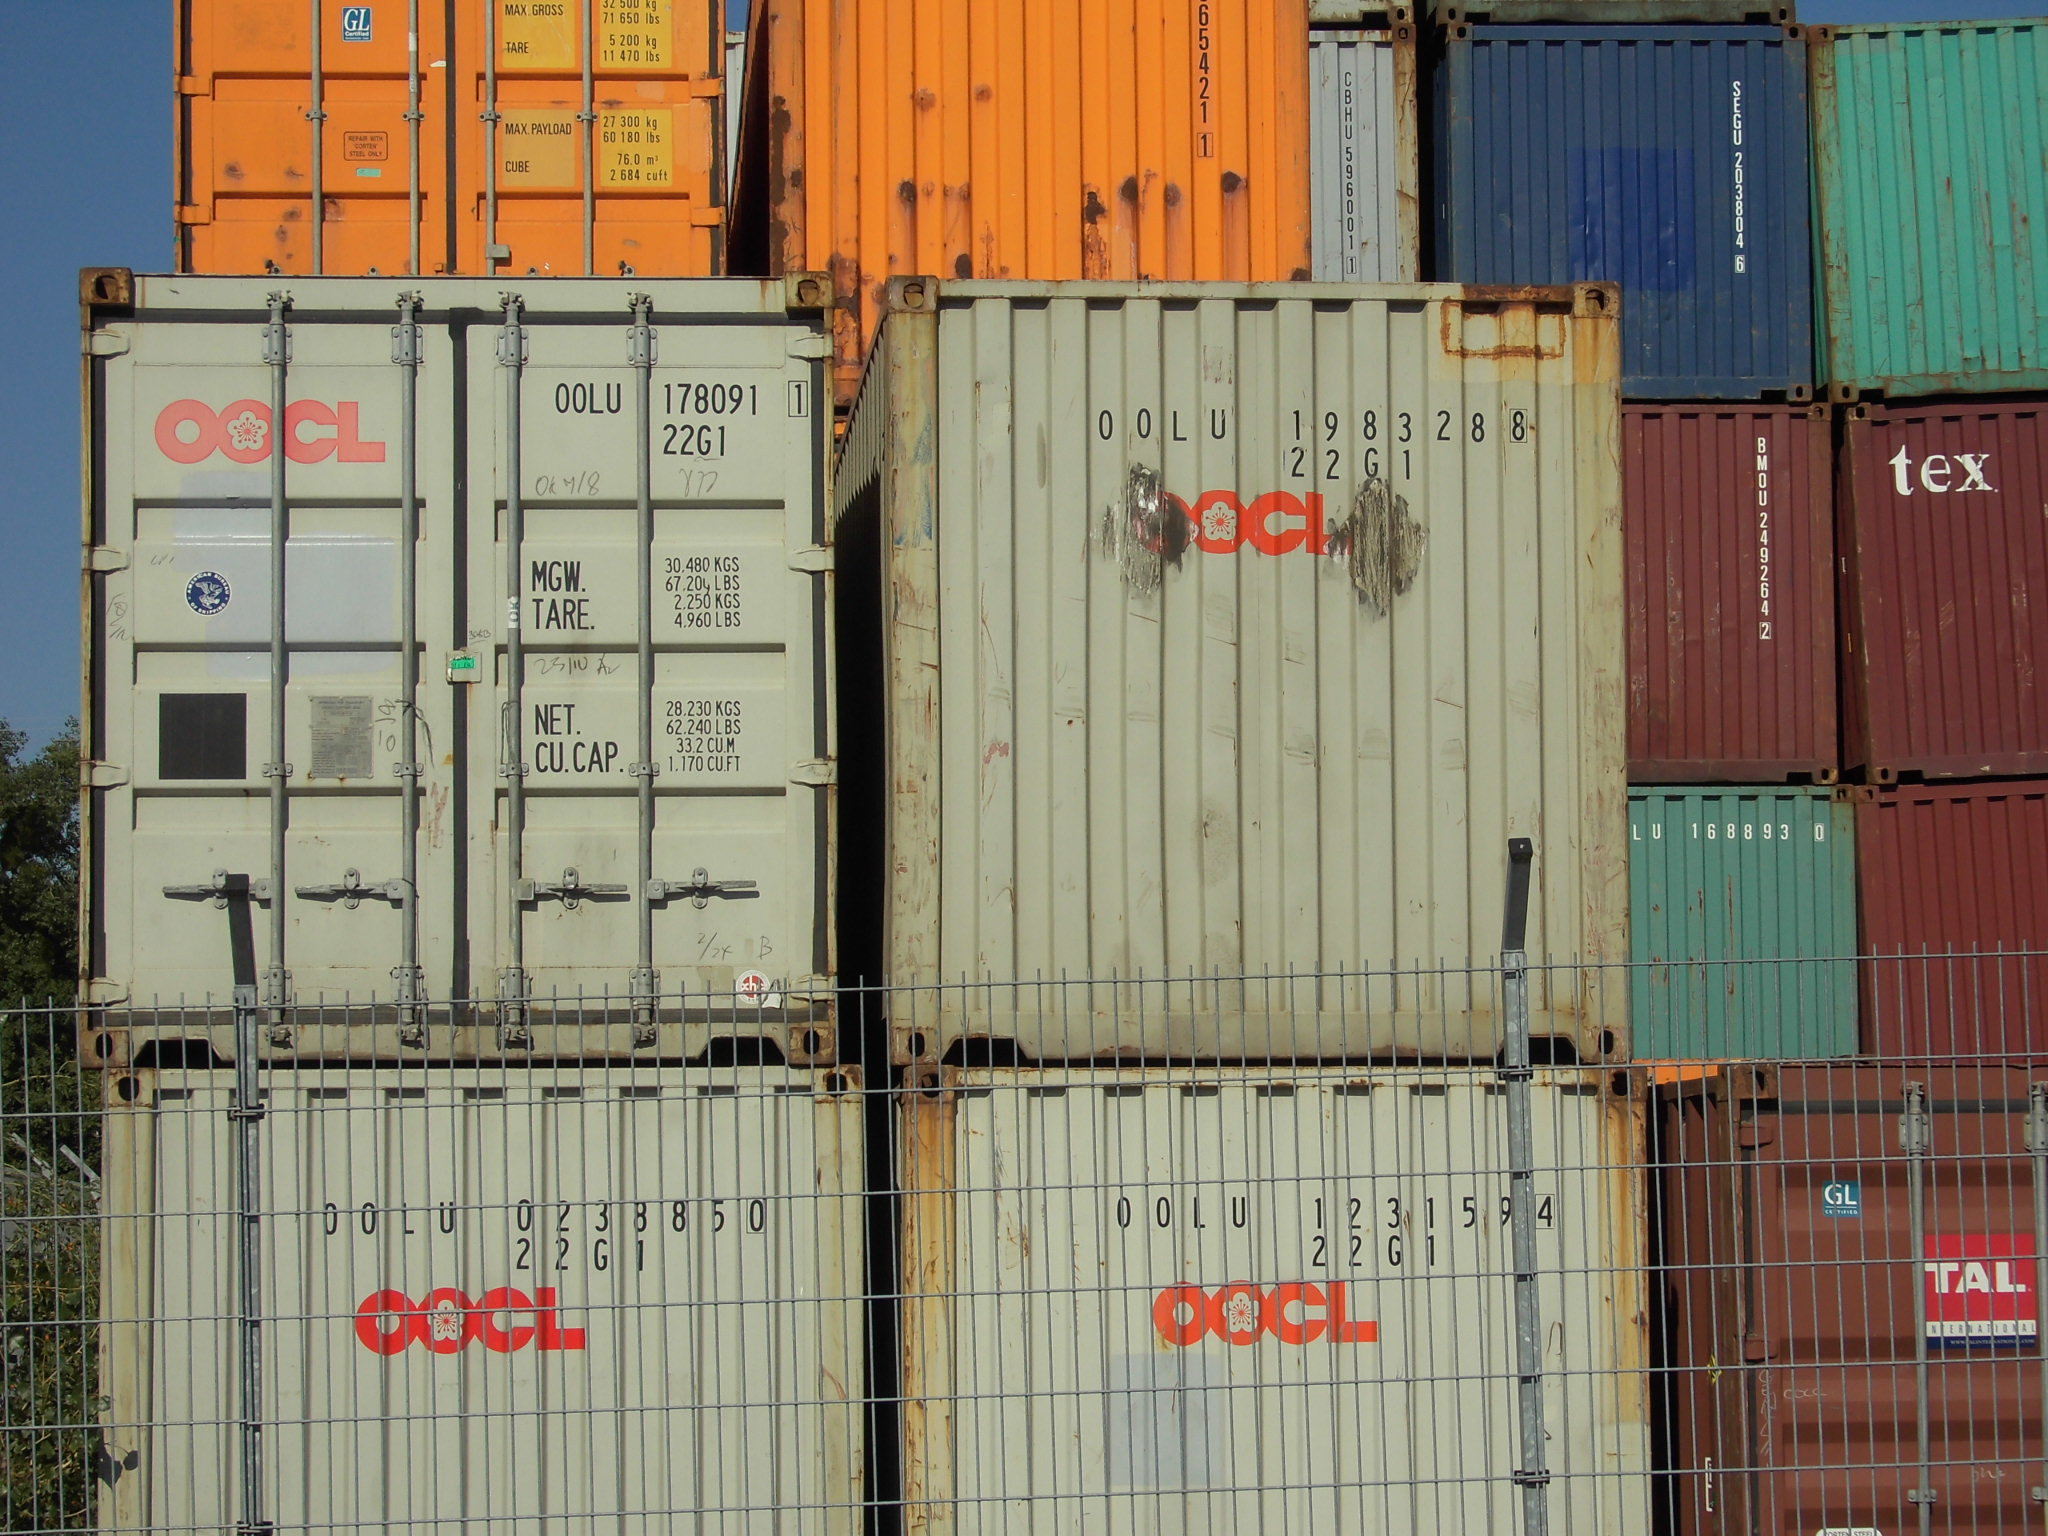container_door: (85, 265, 835, 1060)
container_no_door: (890, 274, 1627, 1071), (884, 1091, 1638, 1536), (111, 1091, 866, 1536), (1567, 34, 1821, 397), (1821, 24, 2037, 394), (1842, 411, 2046, 791), (1640, 402, 1845, 779)
